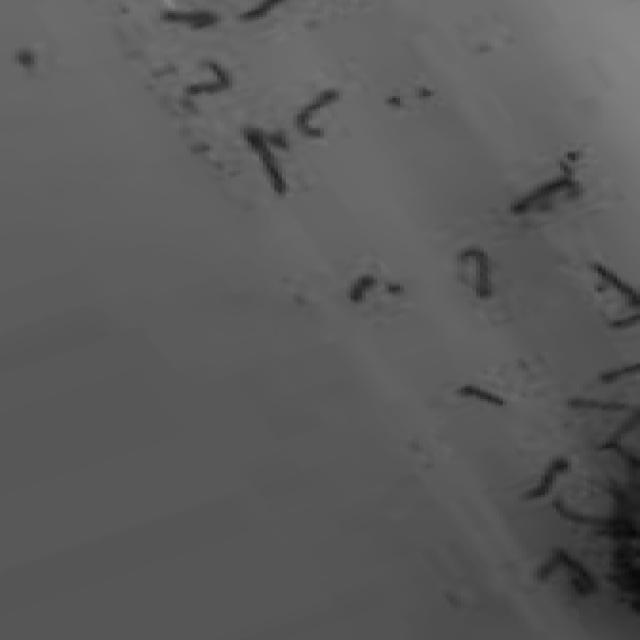larvas: (239, 128, 289, 192), (291, 85, 339, 138), (452, 247, 498, 296), (593, 264, 640, 307), (184, 62, 231, 104), (510, 180, 580, 208), (519, 455, 566, 496), (555, 501, 625, 528), (151, 8, 221, 31), (557, 549, 593, 591), (591, 412, 635, 446), (236, 0, 285, 23), (458, 386, 504, 408), (592, 360, 640, 380), (593, 448, 640, 468), (572, 395, 626, 411), (347, 276, 376, 300), (604, 315, 640, 331), (532, 558, 556, 581)
